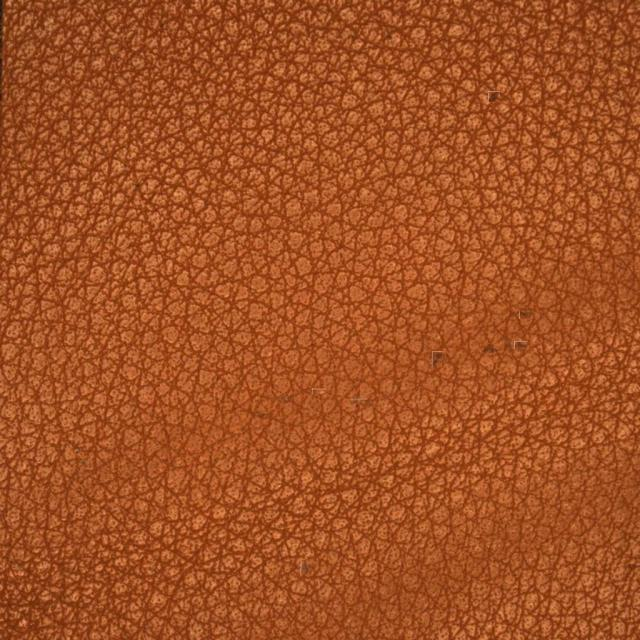Hole: (369, 256, 577, 408)
pinhole: (421, 35, 571, 158)
